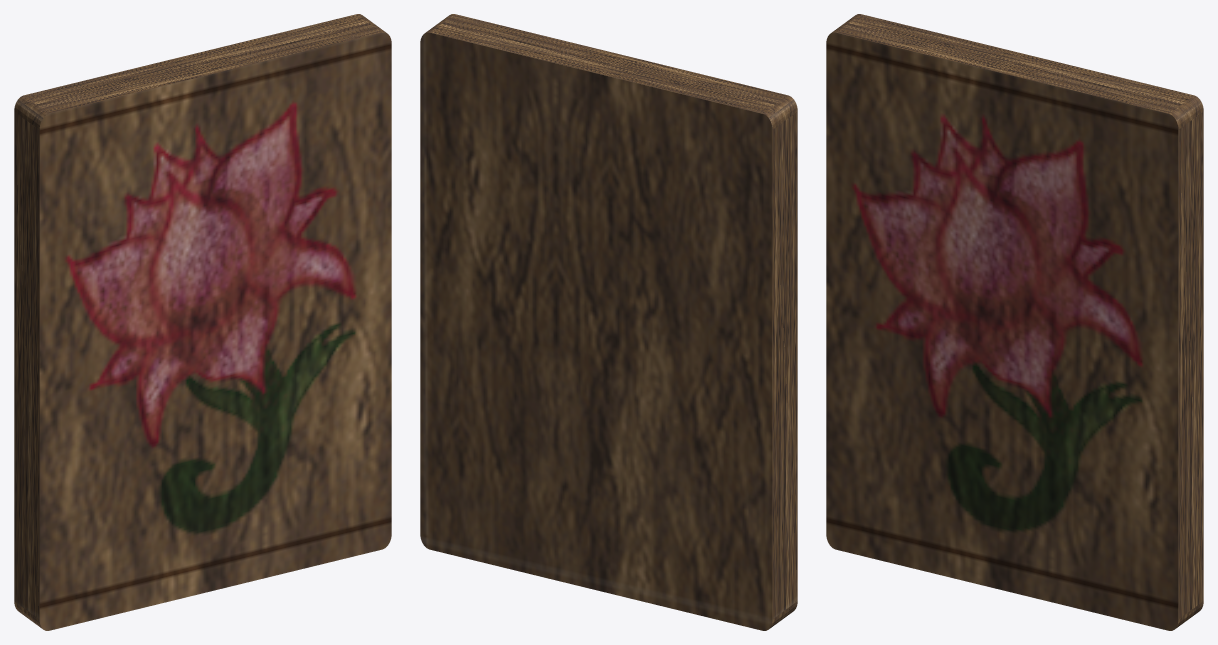
The model's file is f_slab.fbx.
3 views of the same model, side by side, from view 1: azimuth 30°, elevation 25°; view 2: azimuth 150°, elevation 25°; view 3: azimuth 330°, elevation 25° (orthographic).
Parts seen in each view (by area): view 1: f_slab; view 2: f_slab; view 3: f_slab.
Part boxes in pixels (x1,y1,x2,y2): f_slab: [14, 14, 391, 630]; f_slab: [420, 14, 797, 630]; f_slab: [826, 14, 1203, 630].
Size of the model in its own units: 130 by 183 by 16.22.
